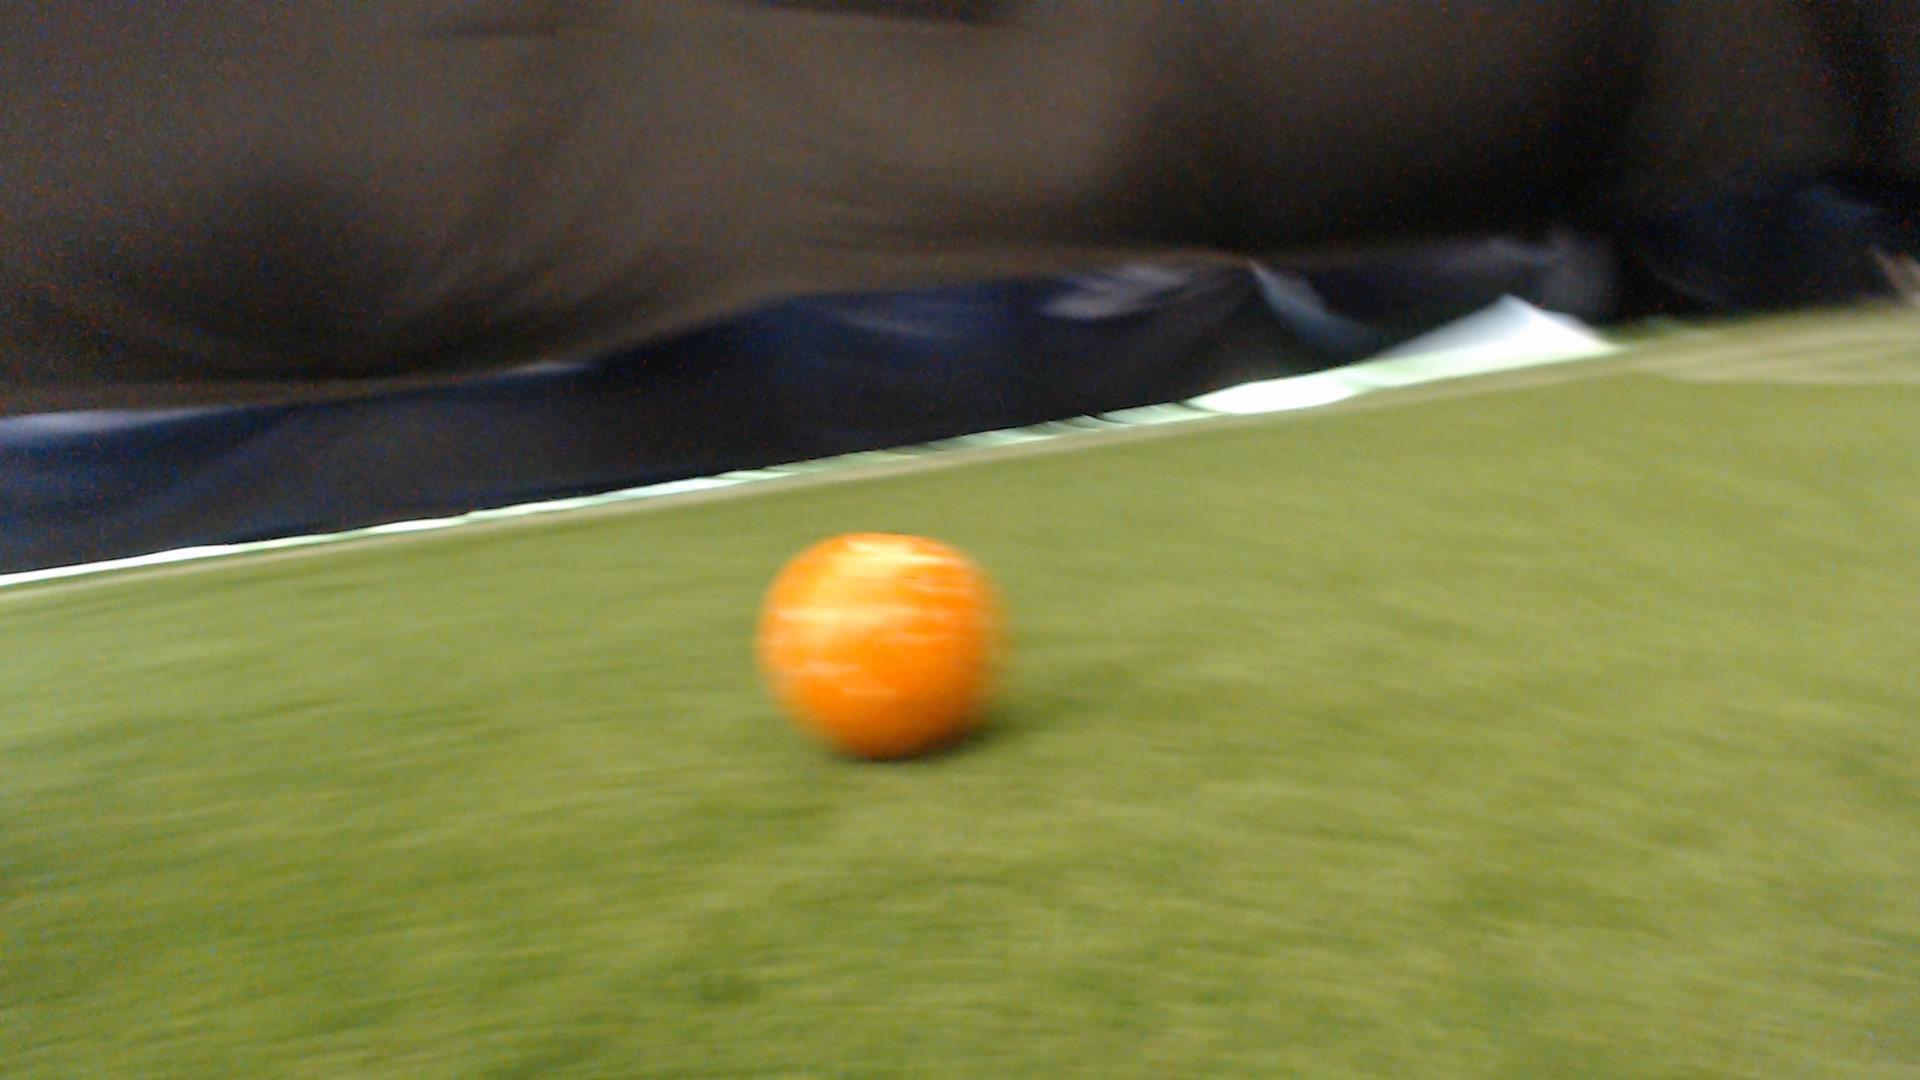bola: (735, 509, 1036, 795)
